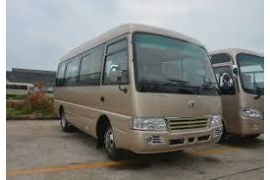bus: (56, 24, 222, 160)
